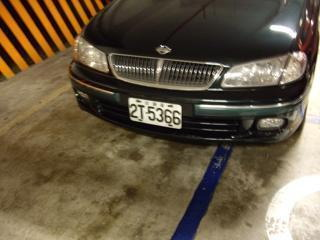plate: (126, 96, 182, 132)
